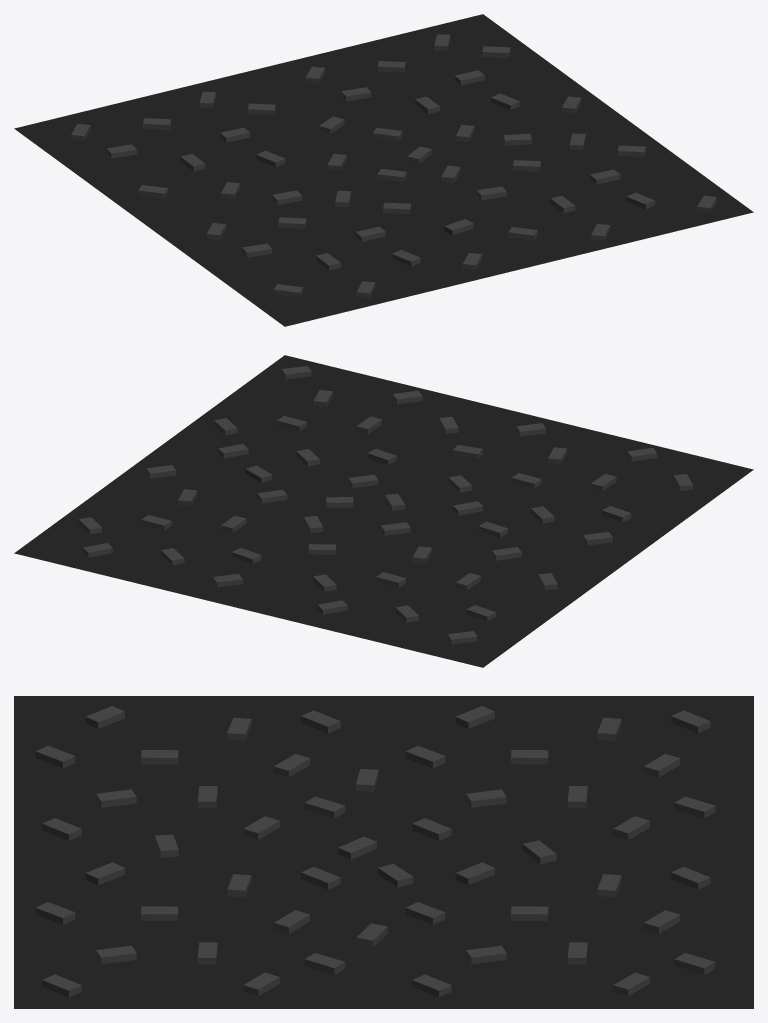
The model's file is Floortile_0.fbx.
The picture shows the model from 3 angles, top to bottom: view 1: azimuth 30°, elevation 25°; view 2: azimuth 150°, elevation 25°; view 3: azimuth 270°, elevation 25°; orthographic projection. The views are drawn at different scales.
Parts seen in each view (by area): view 1: Plane.001; view 2: Plane.001; view 3: Plane.001.
Part boxes in pixels (bbox=[...]): Plane.001: bbox=[14, 14, 753, 326]; Plane.001: bbox=[14, 355, 753, 667]; Plane.001: bbox=[14, 696, 753, 1008].
Bounding box in the file's own units: 400 × 4 × 400.
1 material, 1 textured.
